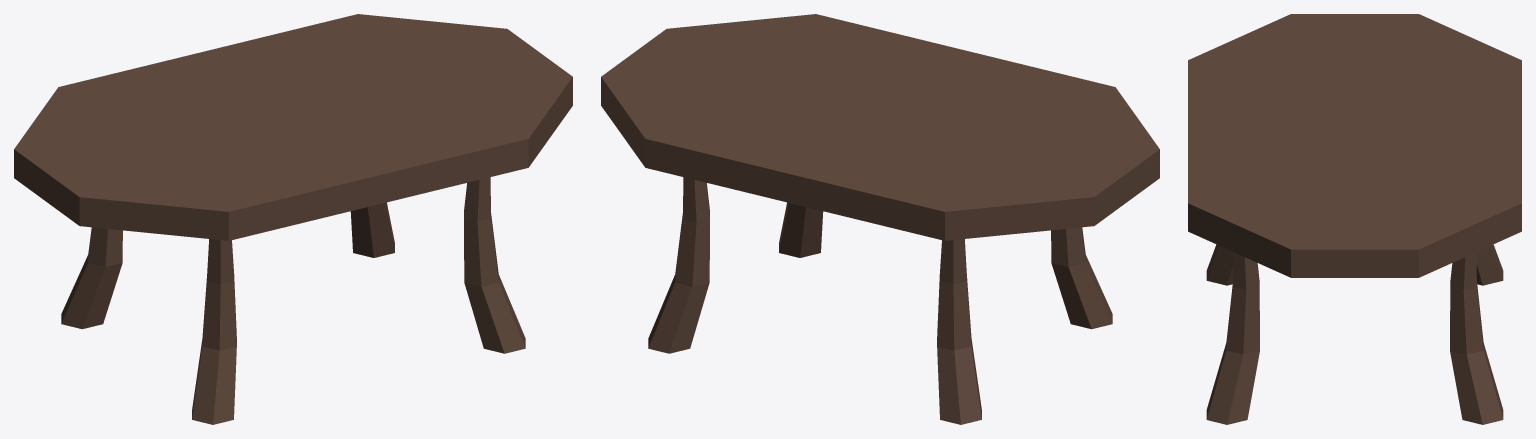
Rendered from table cylindre.FBX.
3 views of the same model, side by side, from view 1: azimuth 30°, elevation 25°; view 2: azimuth 150°, elevation 25°; view 3: azimuth 270°, elevation 25° (orthographic). The views are drawn at different scales.
Visible parts, largest first — view 1: table cylindre; view 2: table cylindre; view 3: table cylindre.
Boxes of the visible parts, bbox=[...] form: table cylindre: bbox=[14, 14, 572, 424]; table cylindre: bbox=[601, 14, 1159, 424]; table cylindre: bbox=[1188, 14, 1521, 424].
Bounding box in the file's own units: 160 × 67.82 × 96.03.
Materials: 1 (1 with a texture image).
